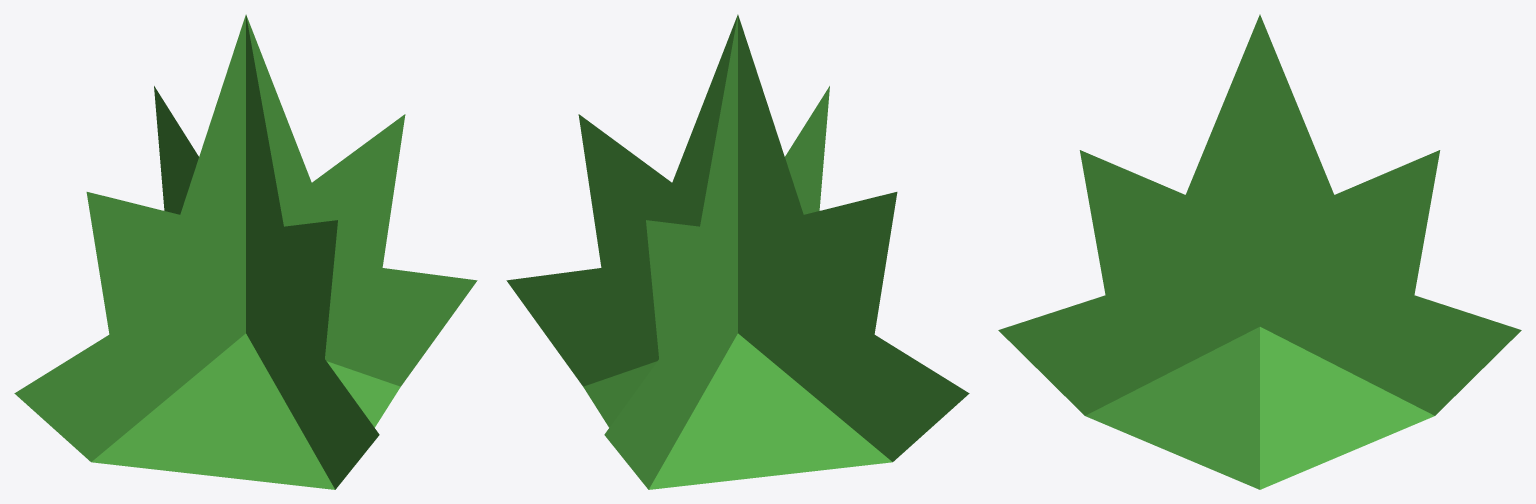
The model's file is plant_flatShort.glb.
The picture shows the model from 3 angles, left to right: view 1: azimuth 30°, elevation 25°; view 2: azimuth 150°, elevation 25°; view 3: azimuth 270°, elevation 25°; orthographic projection. The views are drawn at different scales.
Parts seen in each view (by area): view 1: plant_flatShort; view 2: plant_flatShort; view 3: plant_flatShort.
Part boxes in pixels (x1,y1,x2,y2): plant_flatShort: [14, 14, 477, 489]; plant_flatShort: [506, 14, 969, 489]; plant_flatShort: [998, 14, 1521, 489].
Bounding box in the file's own units: 0.2776 × 0.2351 × 0.2776.
